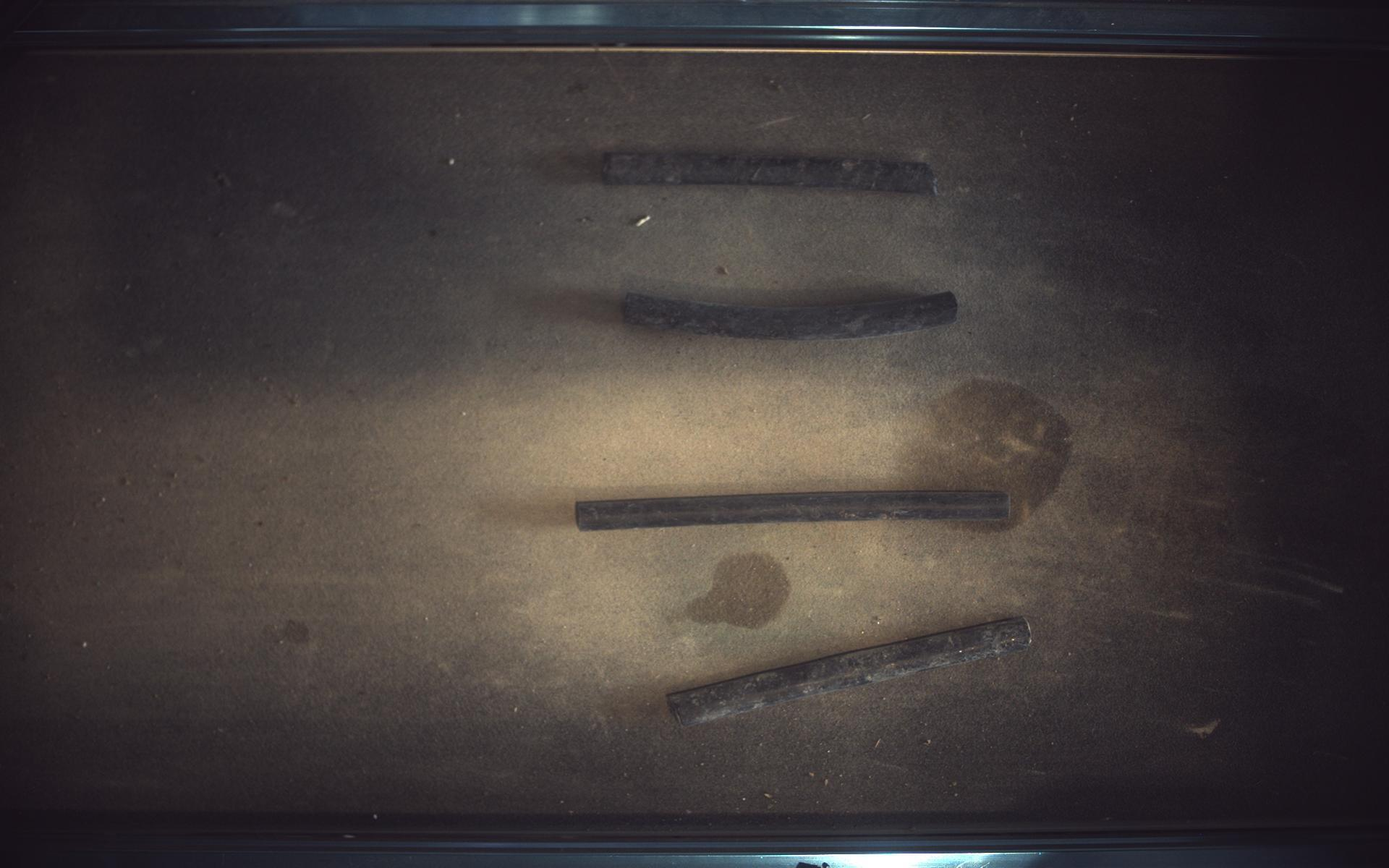pipes: (668, 618, 1033, 727), (576, 491, 1013, 531), (624, 292, 959, 340), (603, 151, 938, 194)
